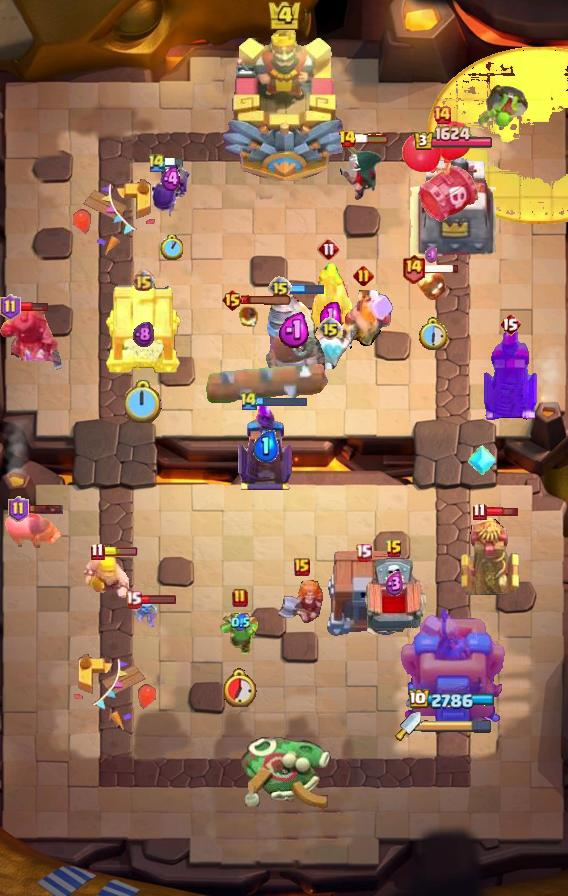archer: (83, 557, 129, 599)
bar: (401, 601, 505, 731)
bar-level: (476, 83, 530, 131)
bat: (307, 335, 353, 369)
bomb: (103, 281, 183, 375), (324, 551, 402, 637)
bomber: (416, 268, 448, 302), (239, 305, 259, 327)
electro-spirit: (278, 312, 312, 349), (253, 430, 280, 462), (320, 302, 341, 331), (162, 165, 183, 193), (133, 321, 154, 348), (384, 571, 404, 597), (230, 612, 249, 631), (425, 246, 439, 264)
elixir: (125, 381, 162, 424), (223, 668, 256, 707), (416, 317, 447, 351), (161, 236, 184, 261)
elixir-golem-mid: (359, 557, 429, 643)
emote: (256, 395, 308, 407), (241, 294, 293, 305), (290, 282, 325, 295), (485, 506, 520, 519), (28, 503, 65, 515), (354, 133, 390, 145), (14, 301, 50, 313), (423, 262, 461, 273), (139, 595, 177, 606), (102, 547, 138, 557), (164, 157, 184, 168)
executioner: (2, 506, 62, 552)
giant-snowball: (220, 610, 260, 660)
goblin-ball: (148, 158, 194, 222)
goblin-brawler: (459, 516, 521, 600)
goblin-hut: (308, 263, 352, 346)
heal-spirit: (130, 595, 160, 627)
hog-rider: (277, 576, 327, 626)
ice-spirit-evolution-symbol: (480, 328, 540, 424), (235, 400, 295, 492)
inferno-dragon: (0, 305, 66, 377)
king-tower: (220, 21, 348, 181)
king-tower-bar: (421, 719, 493, 733)
magic-archer: (265, 293, 325, 385)
mighty-miner: (332, 290, 394, 356)
minion: (204, 363, 328, 403)
pad_2: (468, 443, 496, 477)
phoenix-egg: (428, 46, 568, 224)
queen-tower: (410, 156, 496, 256)
royal-recruit-evolution: (401, 120, 483, 226)
selected: (414, 126, 495, 152), (409, 689, 497, 711)
tesla: (338, 139, 384, 203)
text: (401, 252, 426, 283), (317, 237, 341, 261), (268, 276, 292, 300), (318, 317, 342, 341), (132, 268, 155, 292), (221, 288, 244, 312), (7, 496, 28, 522), (499, 312, 521, 336), (0, 294, 20, 320), (353, 266, 375, 287), (147, 152, 167, 173), (239, 390, 259, 411), (432, 105, 452, 125), (338, 129, 358, 149), (385, 539, 403, 559), (355, 542, 373, 561), (232, 588, 248, 608), (125, 591, 142, 609), (294, 558, 310, 576), (472, 503, 487, 522), (91, 542, 105, 561)
